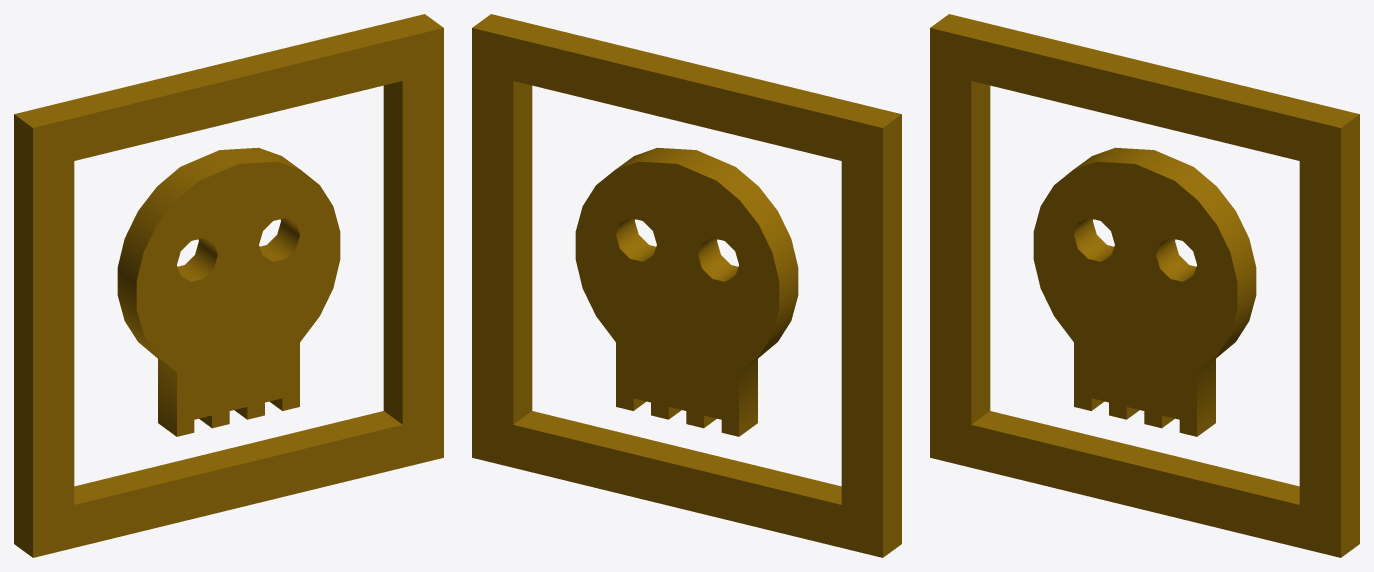
File: bonusDeath.fbx
3 renders of one model, left to right at view 1: azimuth 30°, elevation 25°; view 2: azimuth 150°, elevation 25°; view 3: azimuth 330°, elevation 25°, orthographic.
Parts seen in each view (by area): view 1: 04_Death; view 2: 04_Death; view 3: 04_Death.
Boxes of the visible parts, bbox=[...] form: 04_Death: bbox=[14, 14, 443, 557]; 04_Death: bbox=[472, 14, 901, 557]; 04_Death: bbox=[930, 14, 1359, 557].
Bounding box in the file's own units: 1 × 1 × 0.08.
